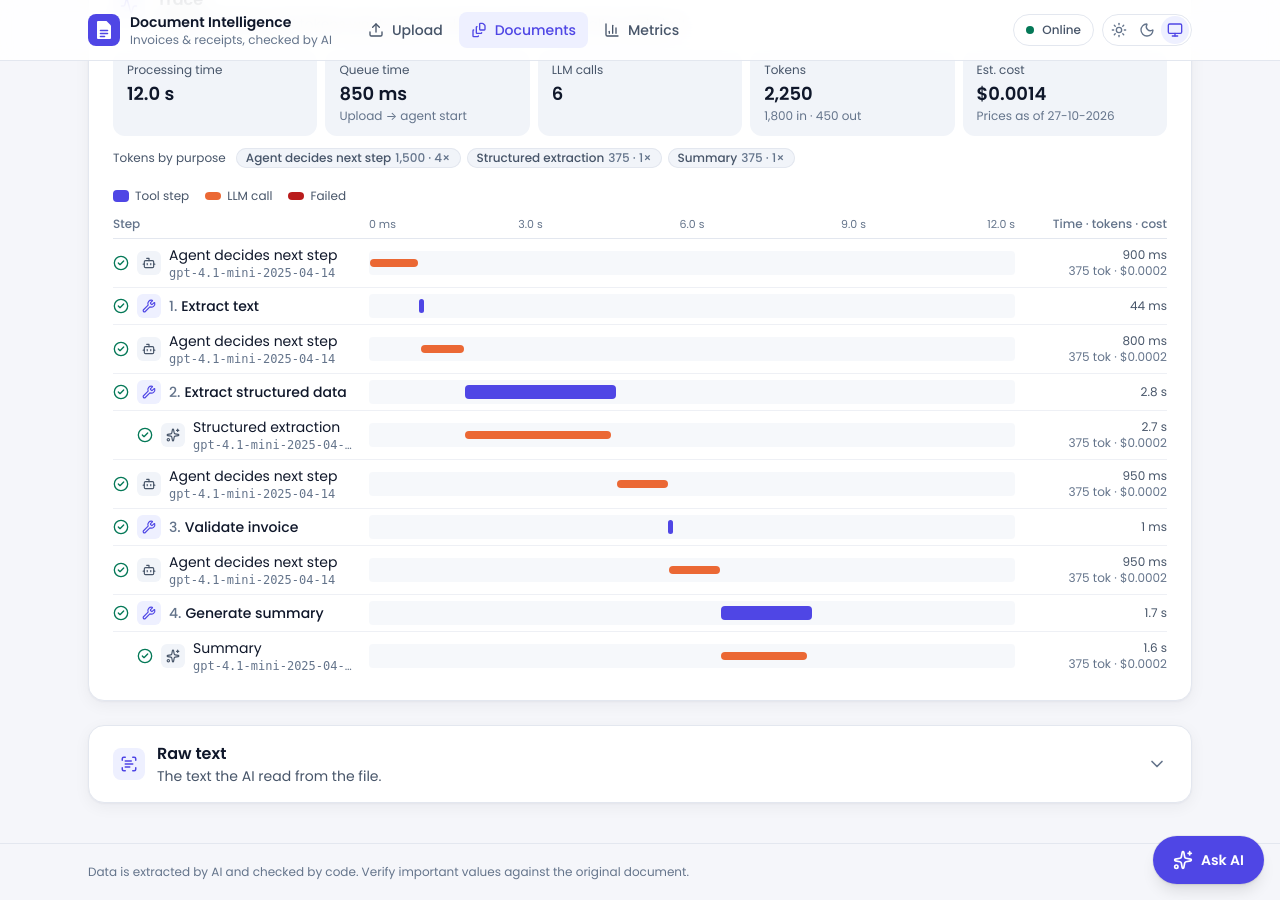
DocumentDetailPage — completed › loads the raw text only when its section is opened
The image size is (1280, 900).
(page scrolled)
Click the text "Raw text" at (192, 753), box [157,742,226,765]
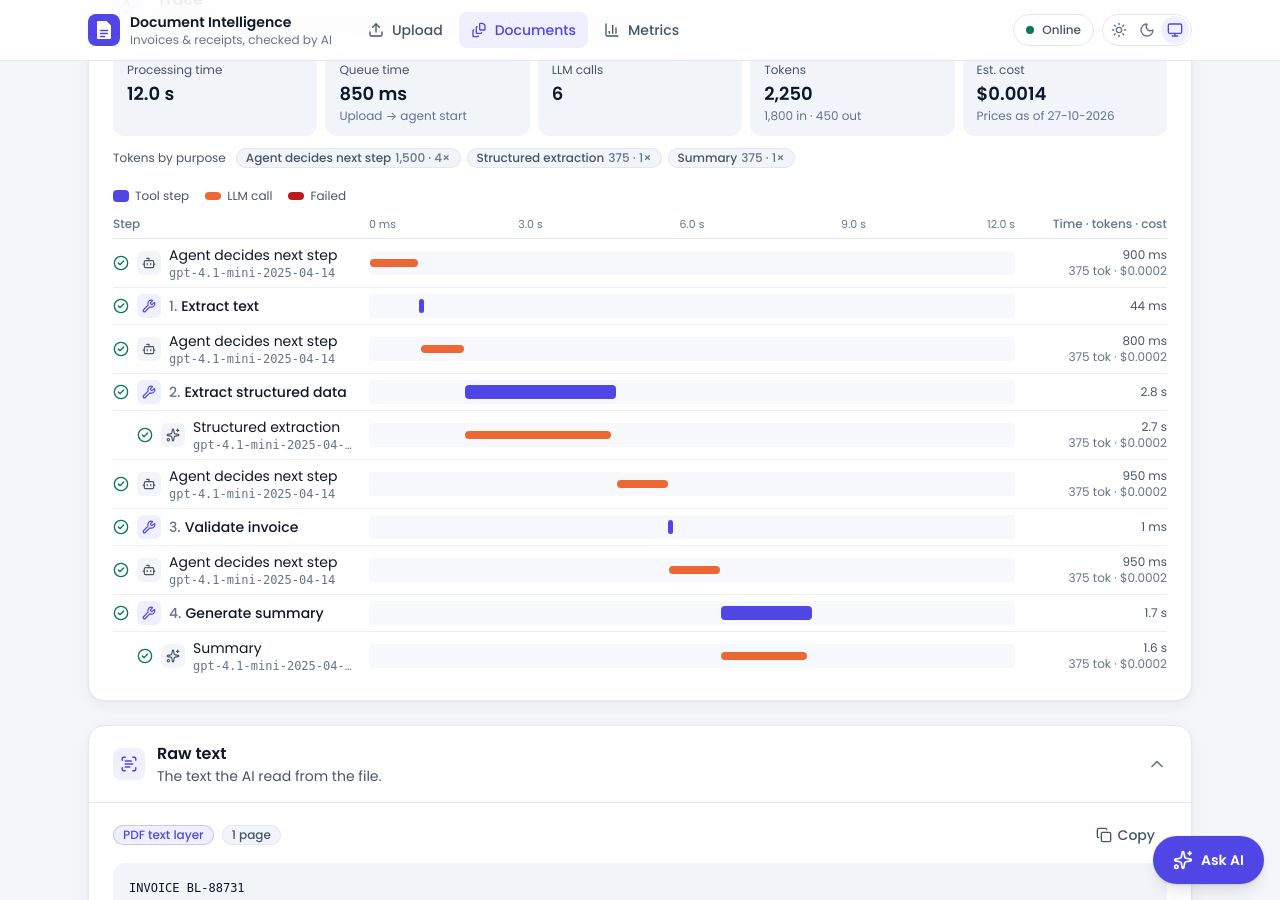
Expected: the text "PDF text layer" is shown, [113,825,214,845]
